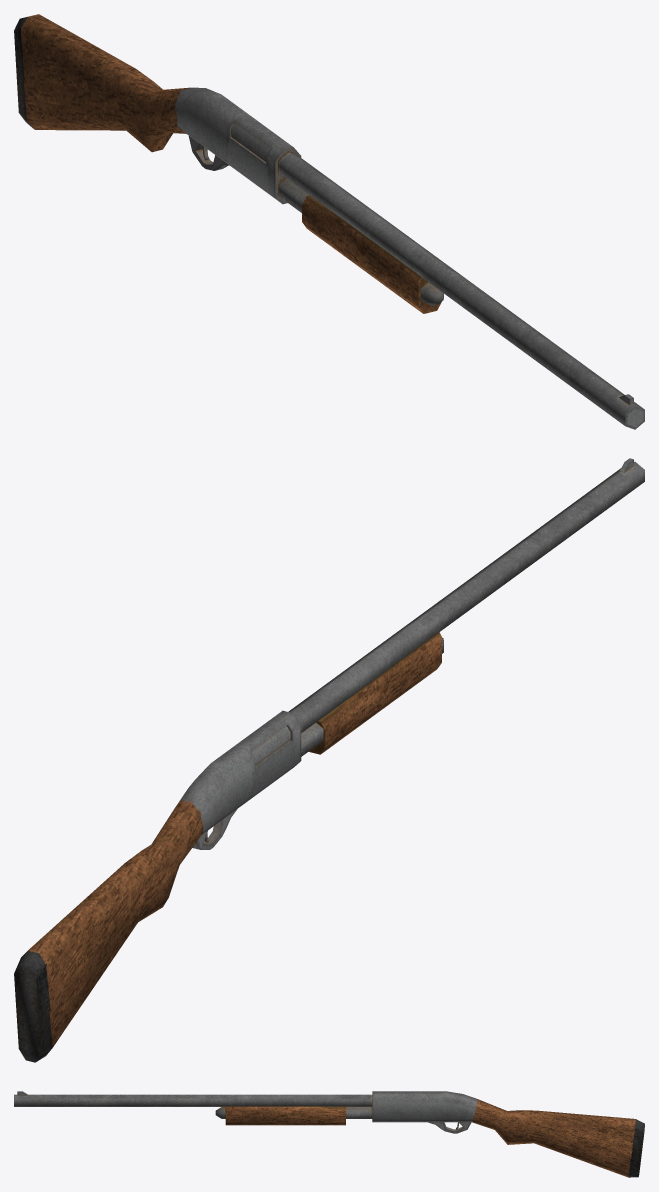
File: remington.glb
The picture shows the model from 3 angles, top to bottom: view 1: azimuth 30°, elevation 25°; view 2: azimuth 150°, elevation 25°; view 3: azimuth 270°, elevation 25°; orthographic projection. The views are drawn at different scales.
Visible parts, largest first — view 1: Remington 870; view 2: Remington 870; view 3: Remington 870.
Boxes of the visible parts, left/top/right/bottom form: Remington 870: left=14, top=14, right=644, bottom=429; Remington 870: left=14, top=458, right=644, bottom=1062; Remington 870: left=14, top=1091, right=644, bottom=1177.
Size of the model in its own units: 0.0485 by 0.2921 by 1.98.
Materials: 1 (1 with a texture image).
